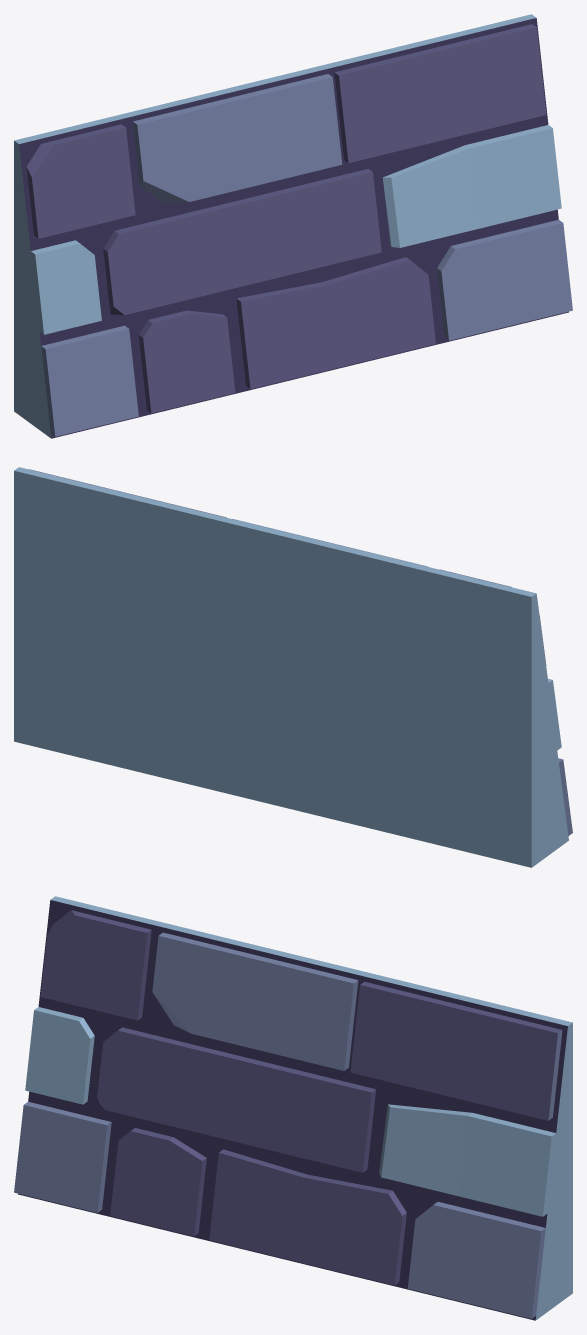
The model's file is Modular Base 01.fbx.
3 renders of one model, top to bottom at view 1: azimuth 30°, elevation 25°; view 2: azimuth 150°, elevation 25°; view 3: azimuth 330°, elevation 25°, orthographic.
Visible parts, largest first — view 1: Modular Base 01; view 2: Modular Base 01; view 3: Modular Base 01.
Part boxes in pixels (x1,y1,x2,y2): Modular Base 01: (14, 14, 572, 438); Modular Base 01: (14, 467, 572, 867); Modular Base 01: (14, 896, 572, 1320).
Size of the model in its own units: 400 by 200 by 55.26.
